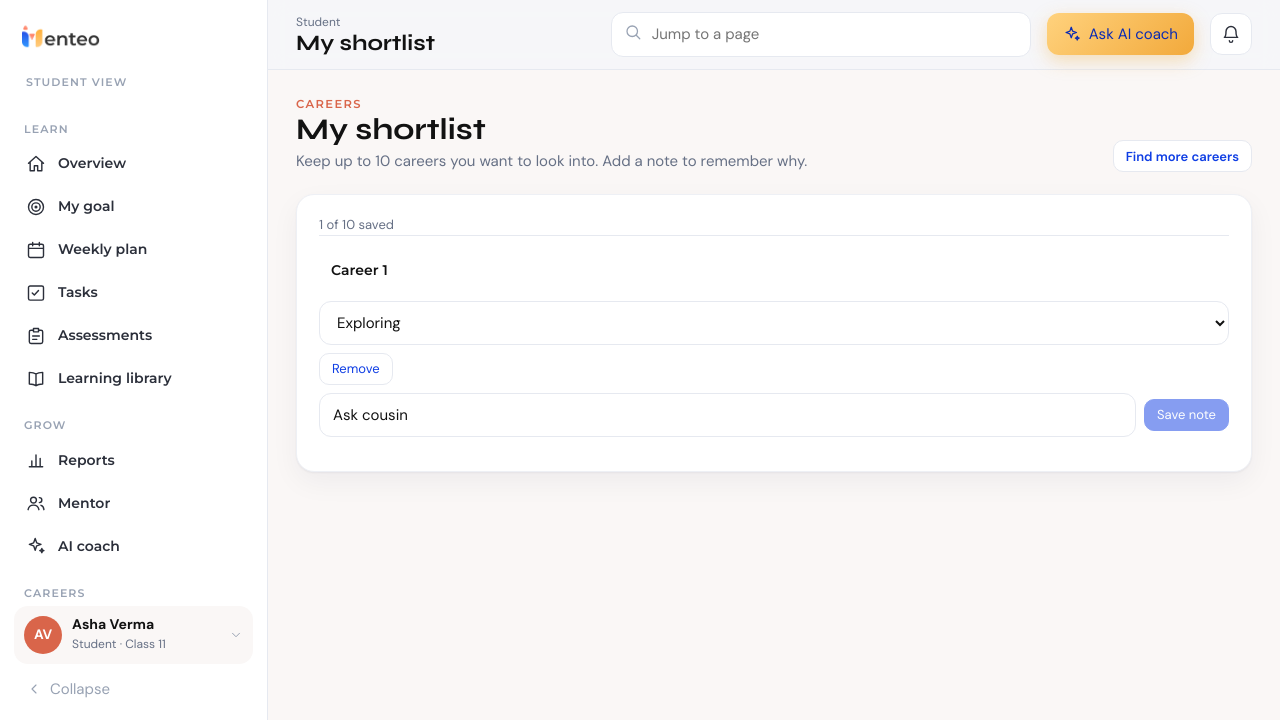
Test: my shortlist › changes status, saves a note, removes a career, and only shows active ones
The width and height of the screenshot is (1280, 720).
Expected: the text "Career 1" is shown, x1=331 y1=260 x2=388 y2=281
Expected: the text "1 of 10 saved" is shown, x1=319 y1=216 x2=394 y2=233
Select "Decided" in the dropdown named "Status of Career 1" at [774, 323], box x1=319 y1=301 x2=1229 y2=345
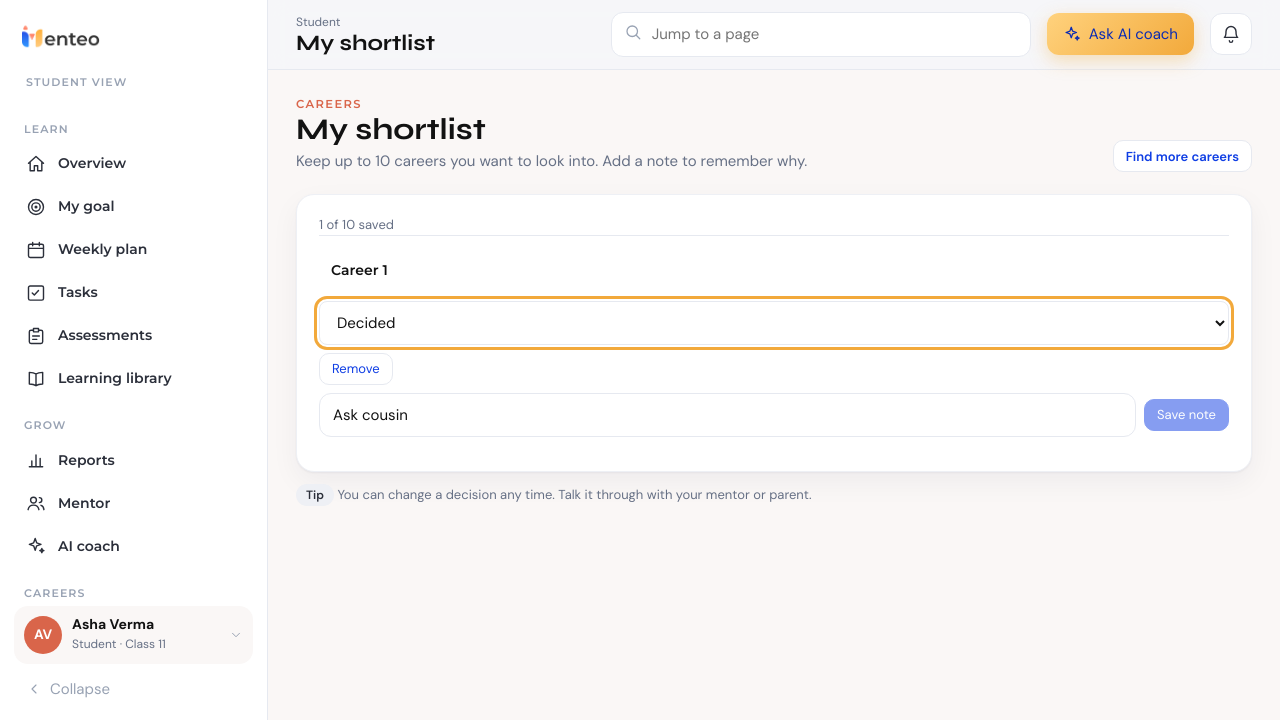
Replace the text in the field named "Note about Career 1" with "Talk to Meera" at [728, 415], box x1=319 y1=393 x2=1136 y2=437
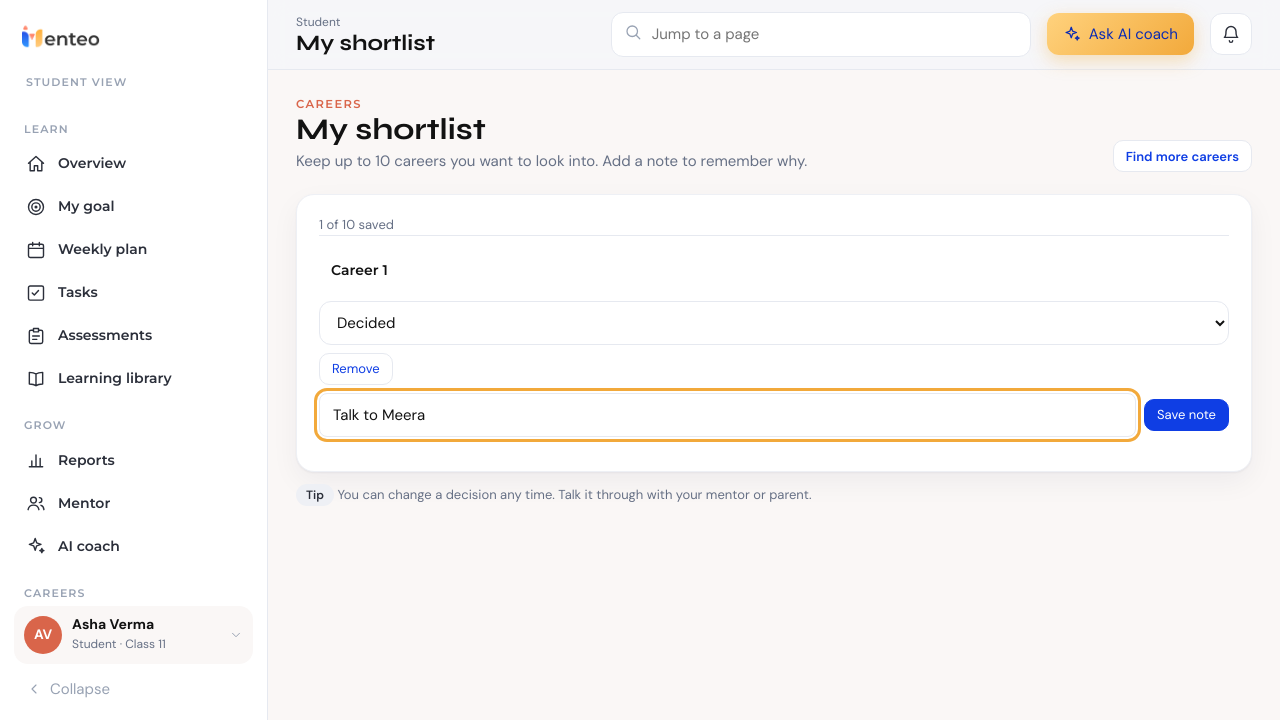
Click the button "Save note".
click(1186, 415)  # box x1=1144 y1=399 x2=1229 y2=431
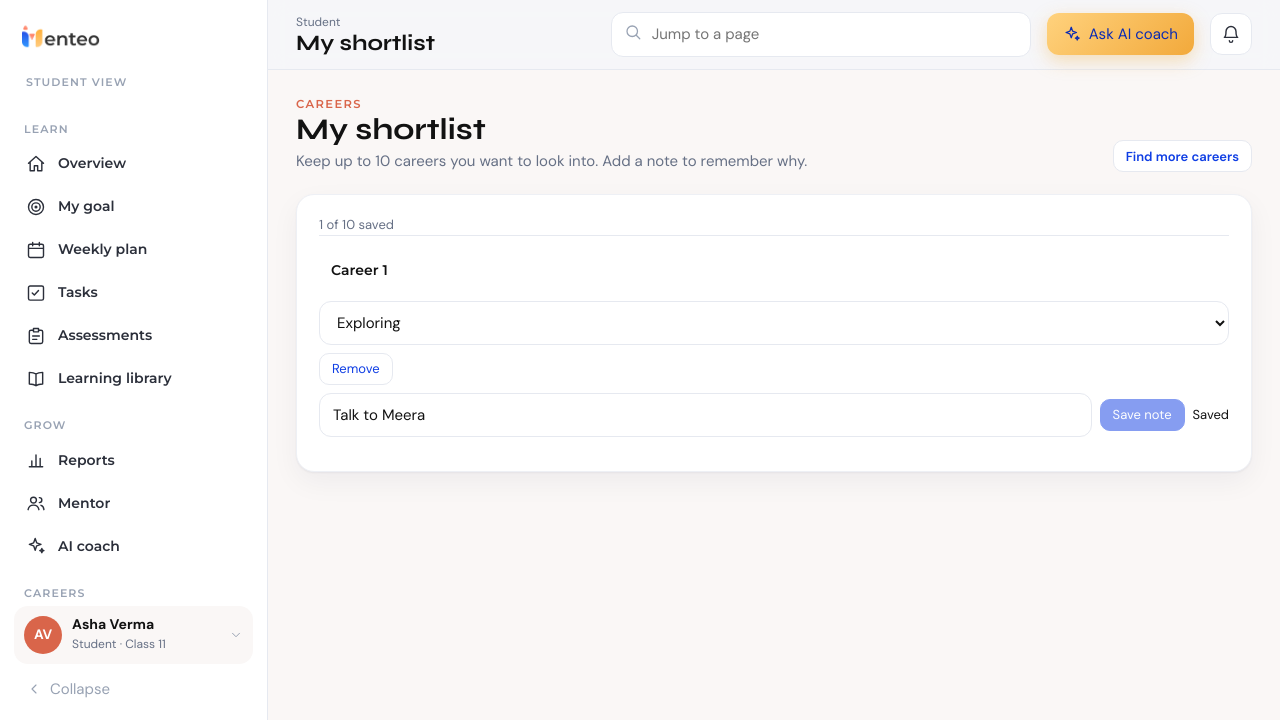
Click the button with aria-label "Remove Career 1".
click(356, 369)  # box x1=319 y1=353 x2=393 y2=385
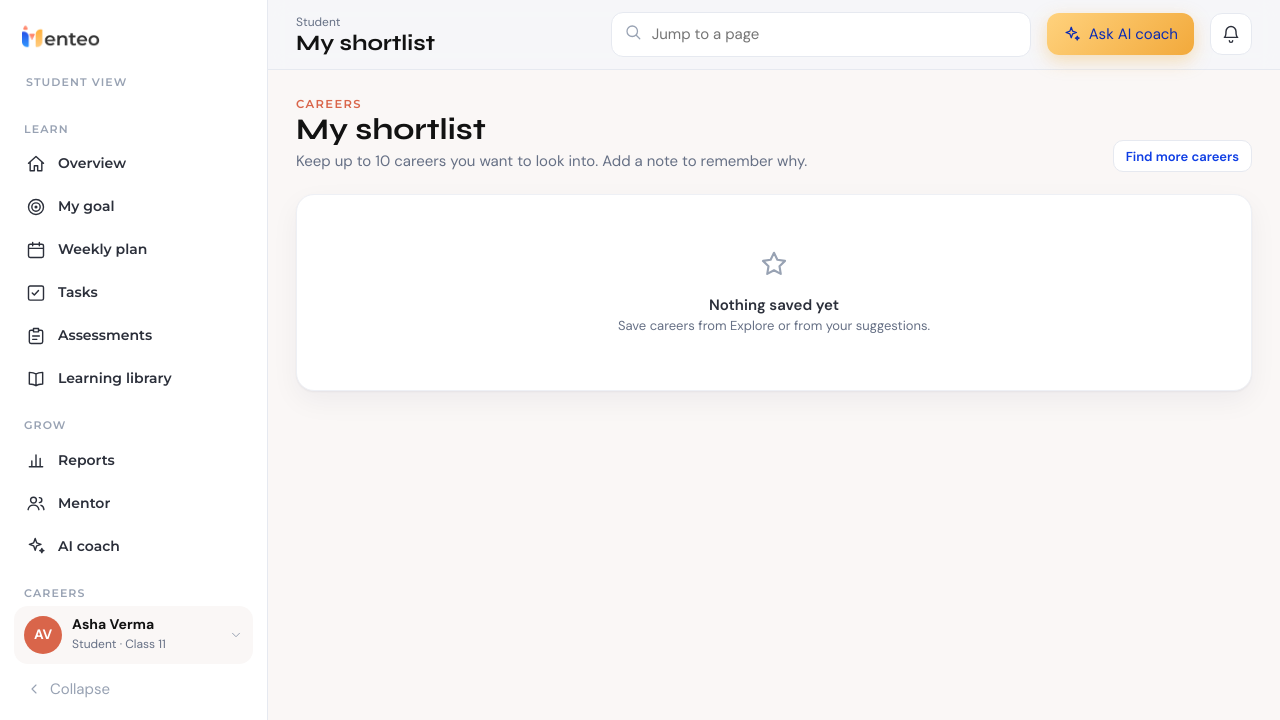
Now the text "Nothing saved yet" is shown, box x1=709 y1=295 x2=839 y2=315
